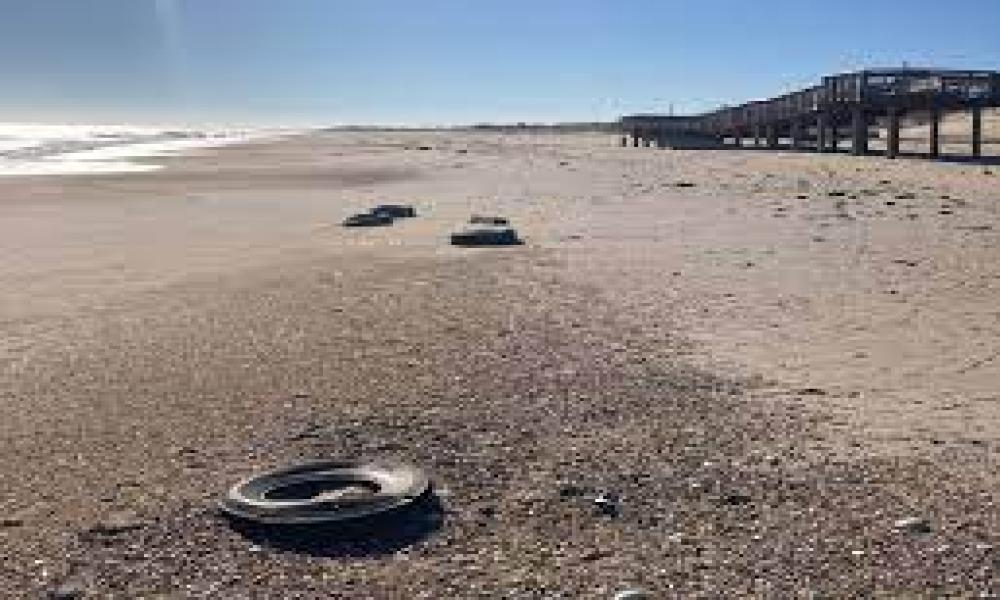tire: (225, 456, 430, 542), (450, 225, 520, 250), (342, 213, 392, 230)
